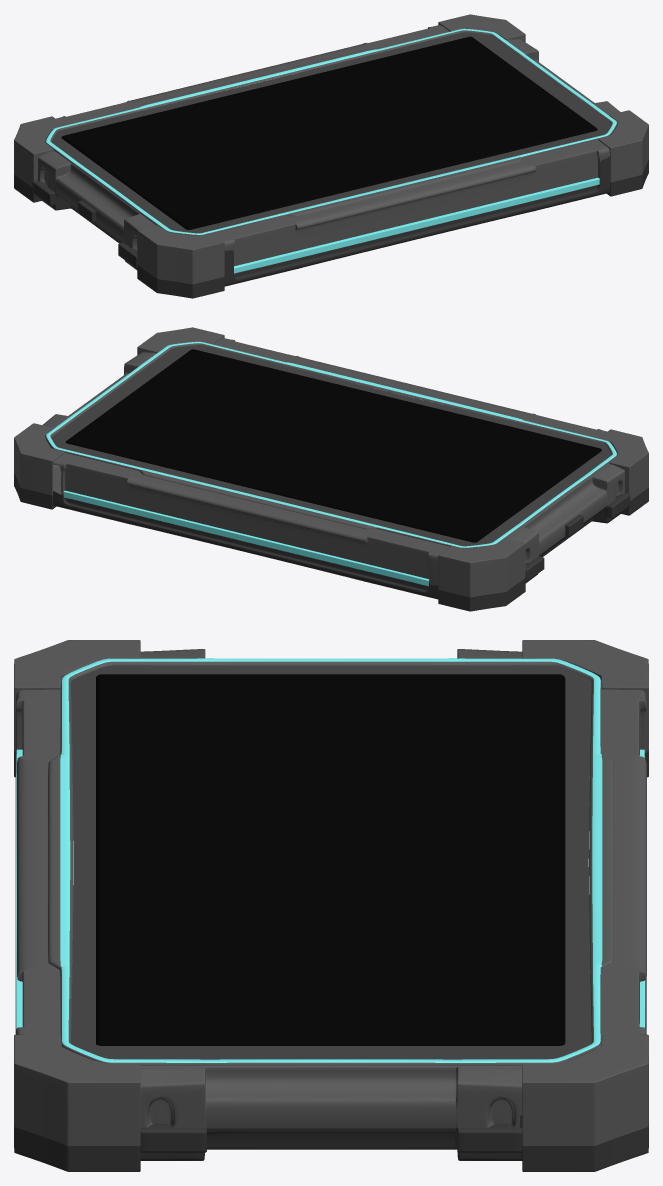
The picture shows the model from 3 angles, top to bottom: view 1: azimuth 30°, elevation 25°; view 2: azimuth 150°, elevation 25°; view 3: azimuth 270°, elevation 25°; orthographic projection. The views are drawn at different scales.
Visible parts, largest first — view 1: pCube4; view 2: pCube4; view 3: pCube4.
Boxes of the visible parts, box(x1,y1,x2,y2) form: pCube4: box(14, 14, 648, 298); pCube4: box(14, 327, 648, 611); pCube4: box(14, 640, 648, 1171).
Size of the model in its own units: 3.1 by 0.3099 by 1.87.
